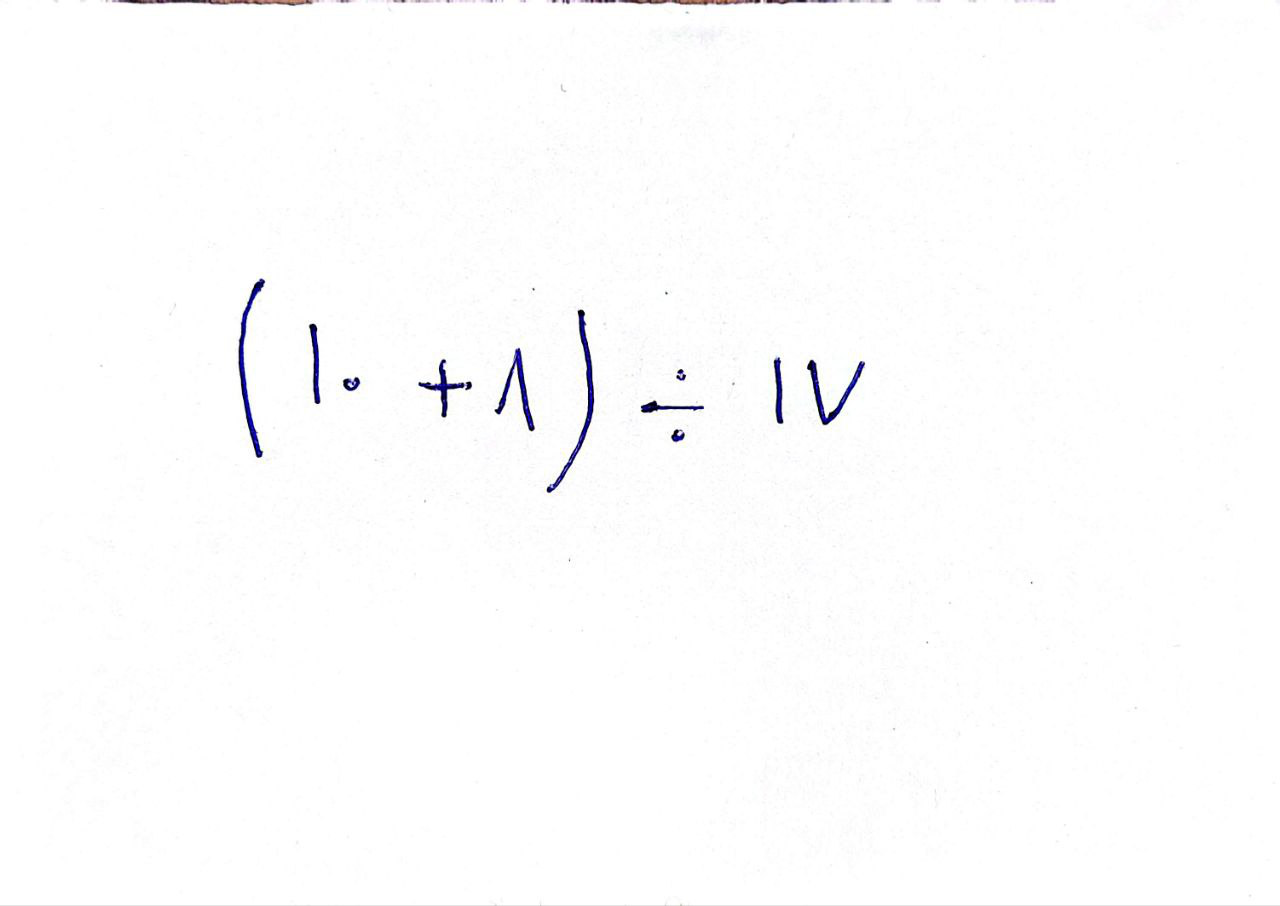character: (544, 307, 594, 494), (235, 275, 269, 459), (637, 367, 708, 444), (805, 359, 869, 428), (489, 348, 537, 431), (418, 359, 476, 417), (307, 320, 325, 406), (768, 357, 790, 426), (340, 377, 360, 394)
